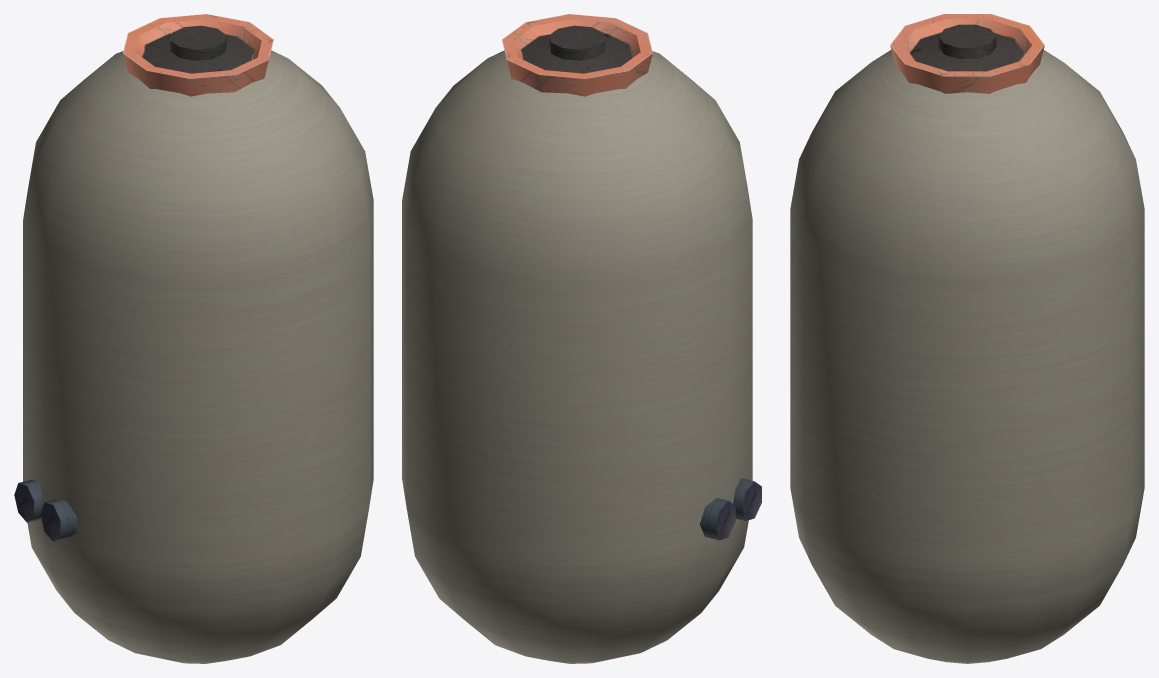
File: tank_capsule.fbx
3 renders of one model, left to right at view 1: azimuth 30°, elevation 25°; view 2: azimuth 150°, elevation 25°; view 3: azimuth 270°, elevation 25°, orthographic.
Visible parts, largest first — view 1: tank_capsule; view 2: tank_capsule; view 3: tank_capsule.
Boxes of the visible parts, x1,y1,x2,y2 form: tank_capsule: (14, 14, 373, 663); tank_capsule: (402, 14, 761, 663); tank_capsule: (790, 14, 1144, 663).
Size of the model in its own units: 472 by 878 by 460.
